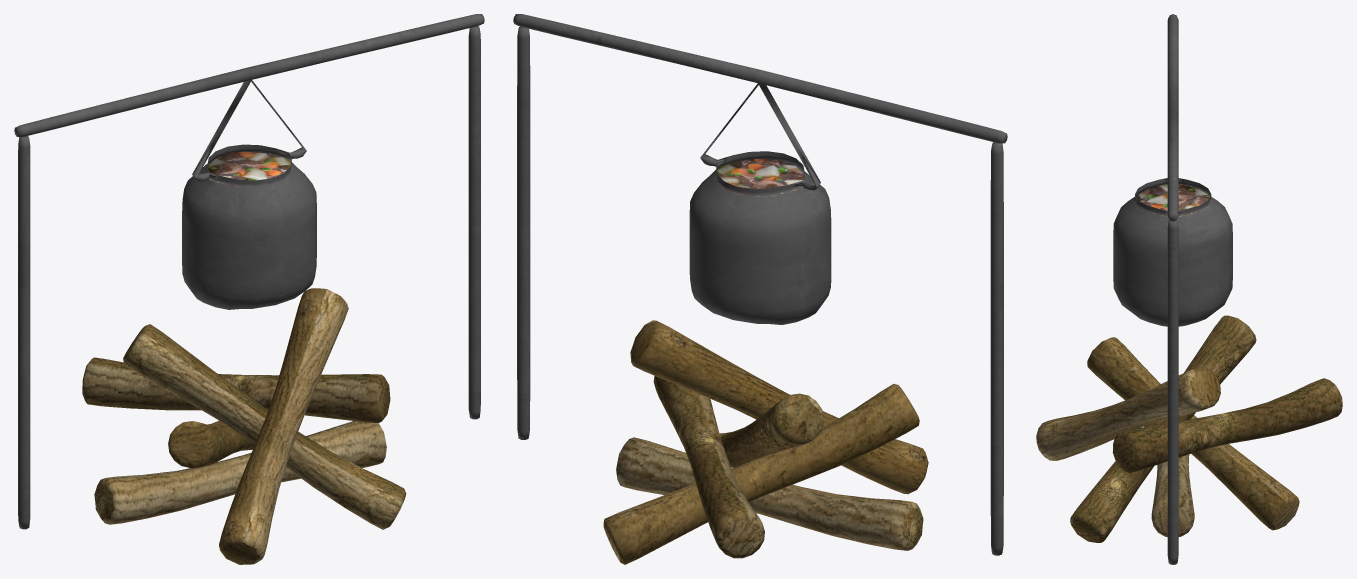
The model's file is fogata.obj.
3 views of the same model, side by side, from view 1: azimuth 30°, elevation 25°; view 2: azimuth 150°, elevation 25°; view 3: azimuth 270°, elevation 25° (orthographic). The views are drawn at different scales.
Parts seen in each view (by area): view 1: Fogata_Cylinder; view 2: Fogata_Cylinder; view 3: Fogata_Cylinder.
Part boxes in pixels (left/top/right/bottom): Fogata_Cylinder: left=14, top=14, right=484, bottom=564; Fogata_Cylinder: left=513, top=14, right=1007, bottom=564; Fogata_Cylinder: left=1036, top=14, right=1342, bottom=564.
Bounding box in the file's own units: 7.12 × 6.54 × 4.62.
